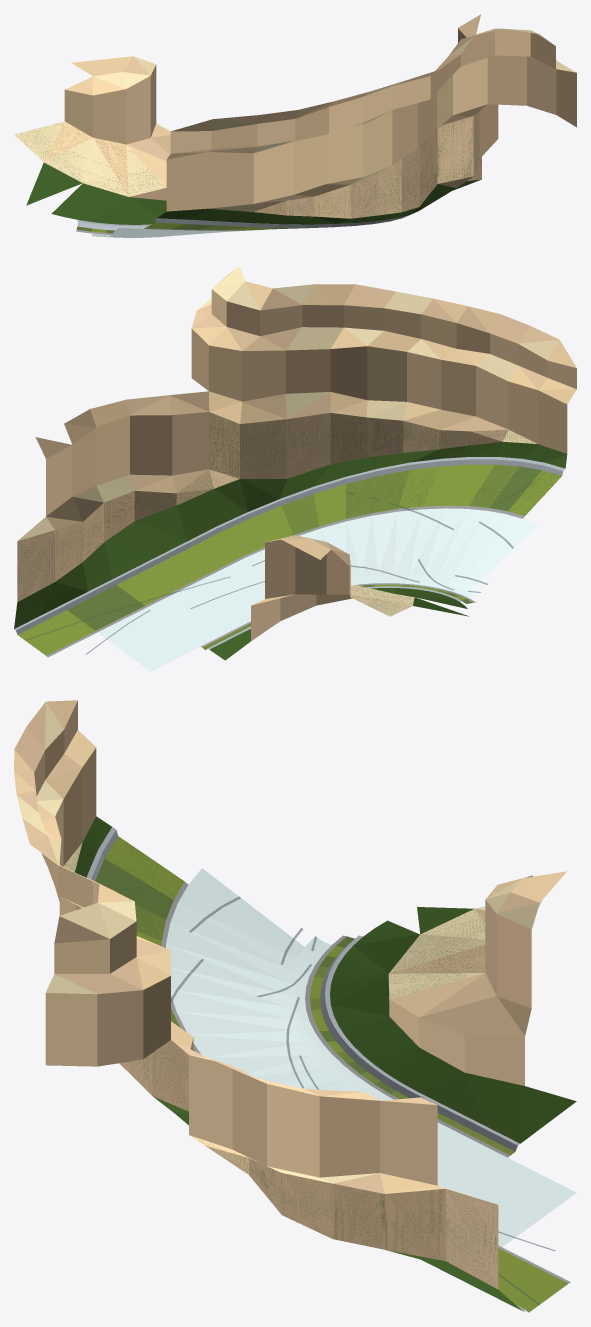
3 renders of one model, top to bottom at view 1: azimuth 30°, elevation 25°; view 2: azimuth 150°, elevation 25°; view 3: azimuth 270°, elevation 25°, orthographic. The views are drawn at different scales.
Visible parts, largest first — view 1: O27416; view 2: O27416; view 3: O27416.
Part boxes in pixels (x1,y1,x2,y2): O27416: [14, 14, 576, 237]; O27416: [14, 266, 576, 671]; O27416: [14, 700, 576, 1312].
Bounding box in the file's own units: 140 × 80 × 113.
